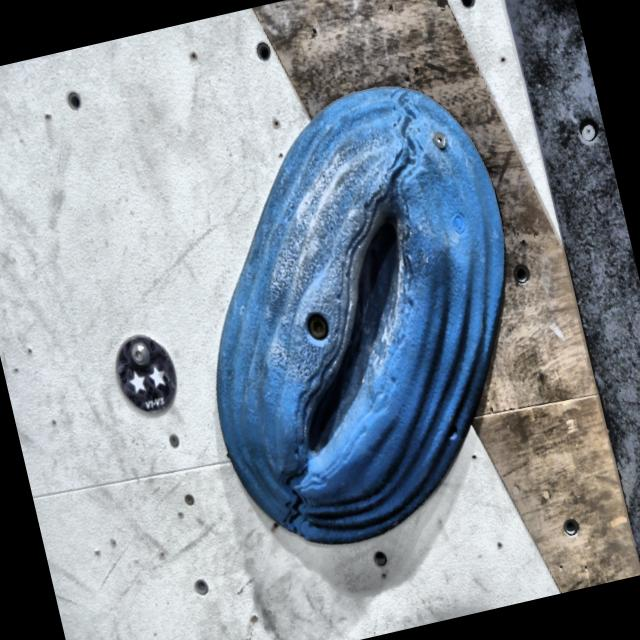Hold: (156, 63, 566, 560)
